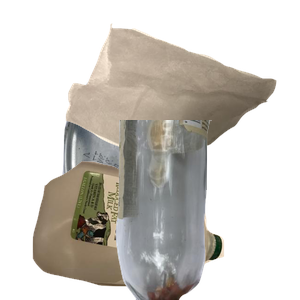glass: (113, 120, 300, 300)
metal: (60, 44, 300, 224)
plastic: (30, 159, 247, 300)
trash: (63, 21, 300, 172)
